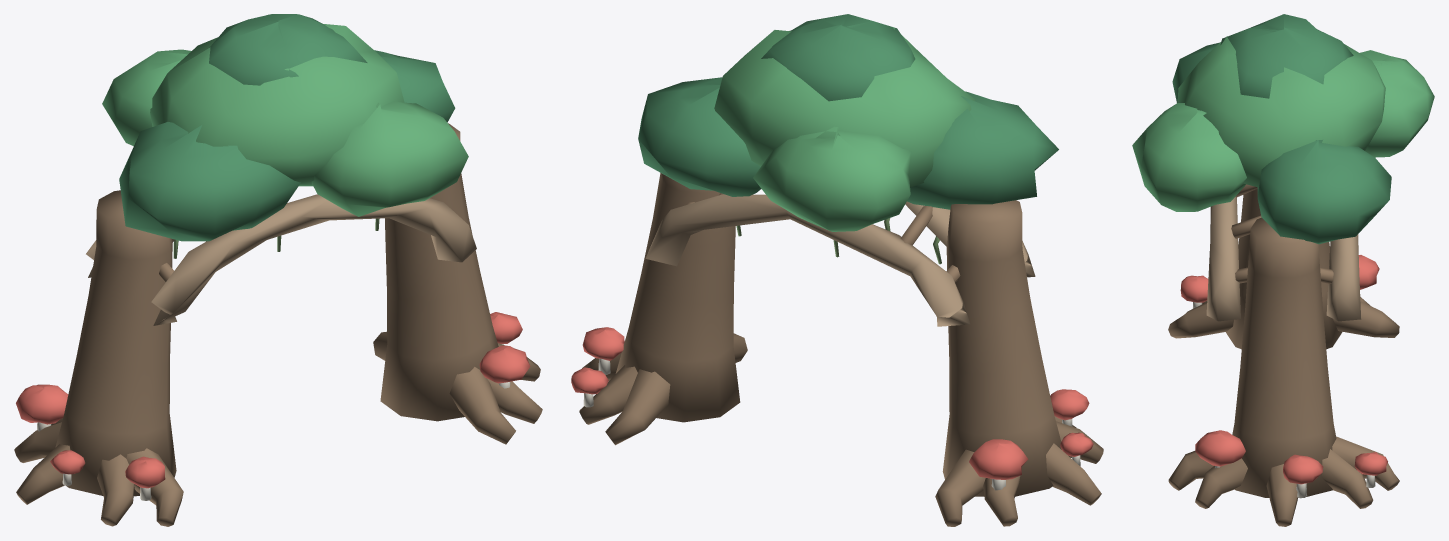
The model's file is roottree.glb.
3 renders of one model, left to right at view 1: azimuth 30°, elevation 25°; view 2: azimuth 150°, elevation 25°; view 3: azimuth 270°, elevation 25°, orthographic. The views are drawn at different scales.
Visible parts, largest first — view 1: Trunk-1, Crown0, Trunk1, Crown1, Crown4, Rib0, Crown5, Crown3, Root1_4, Crown2, Root-1_2, Shroom0C (+8 smaller); view 2: Trunk-1, Trunk1, Crown0, Crown3, Crown1, Crown2, Rib2, Crown5, Root1_3, Root-1_3, Shroom0C, Root-1_0 (+8 smaller); view 3: Trunk1, Crown0, Crown2, Crown4, Crown5, Crown3, Rib0, Rib2, Trunk-1, Root1_1, Root1_2, Shroom2C (+10 smaller).
Part boxes in pixels (x1,y1,x2,y2): Trunk-1: (55,190,176,496); Crown0: (150,24,404,186); Trunk1: (380,123,498,421); Crown1: (119,122,300,241); Crown4: (311,101,468,216); Rib0: (151,194,476,325); Crown5: (209,14,367,85); Crown3: (102,49,191,146); Root1_4: (449,367,515,444); Crown2: (374,50,455,122); Root-1_2: (97,454,134,526); Shroom0C: (16,384,68,424); Trunk-1: (942,200,1061,496); Trunk1: (615,173,740,422); Crown0: (714,27,974,187); Crown3: (753,126,911,231); Crown1: (907,91,1058,209); Crown2: (638,77,761,196); Rib2: (645,194,970,326); Crown5: (761,14,915,101); Root1_3: (605,369,670,445); Root-1_3: (935,449,985,526); Shroom0C: (969,439,1028,479); Root-1_0: (1046,443,1101,505); Trunk1: (1232,217,1336,497); Crown0: (1177,36,1385,187); Crown2: (1257,140,1391,244); Crown4: (1132,103,1246,211); Crown5: (1220,14,1353,98); Crown3: (1360,50,1434,157); Rib0: (1206,197,1240,321); Rib2: (1326,234,1361,321); Trunk-1: (1226,189,1342,349); Root1_1: (1322,449,1373,508); Root1_2: (1195,458,1247,508); Shroom2C: (1195,430,1245,466).
Size of the model in its own units: 47.73 by 36.96 by 26.21.
